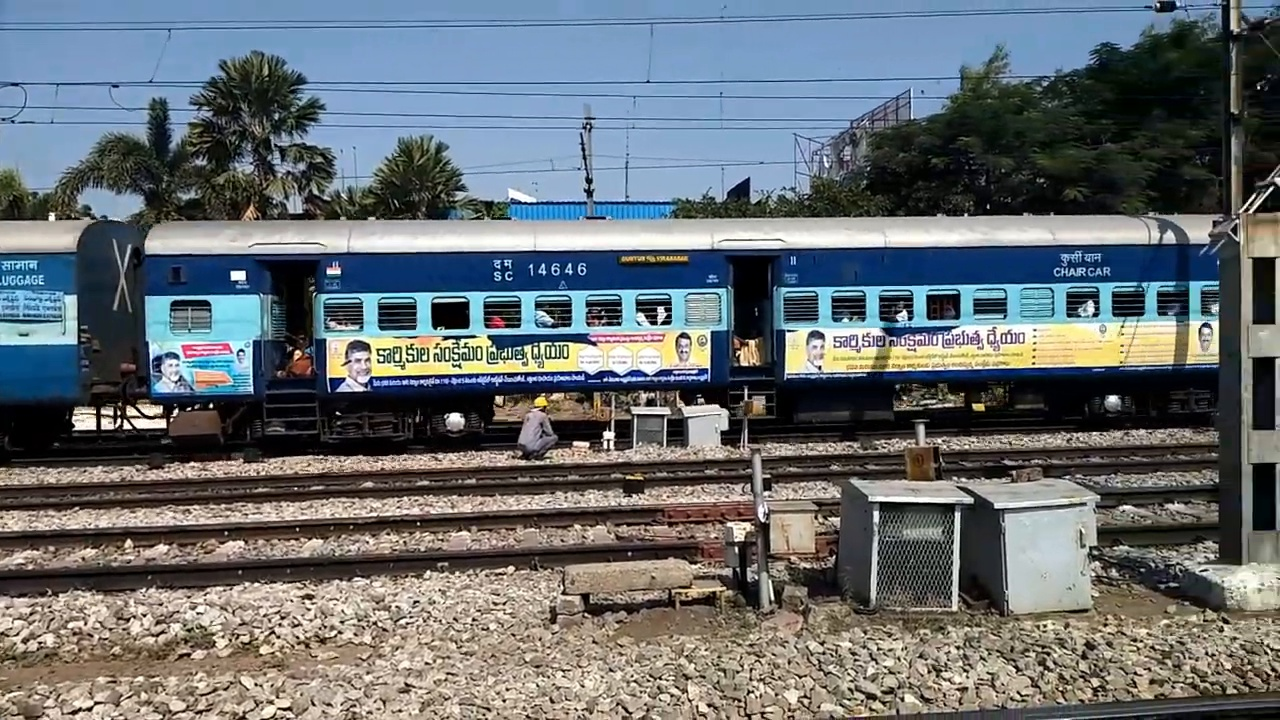Boogie: (520, 256, 608, 284)
Car Type: (1030, 240, 1125, 286), (0, 254, 53, 296)
